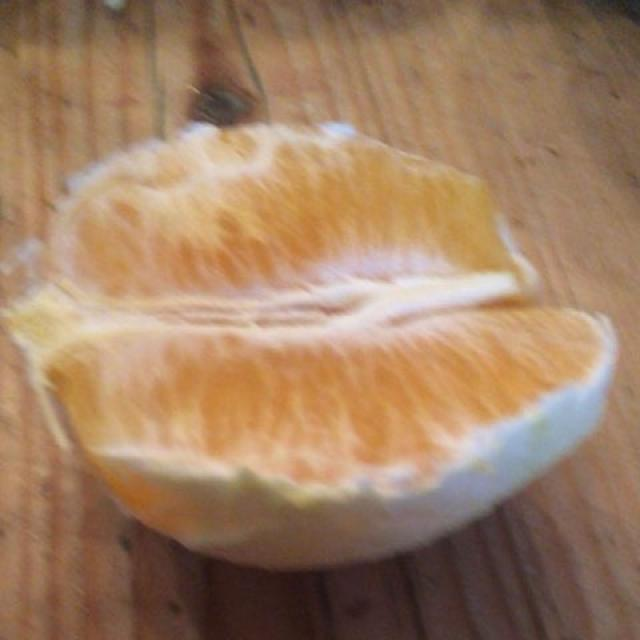orange: (51, 124, 614, 553)
